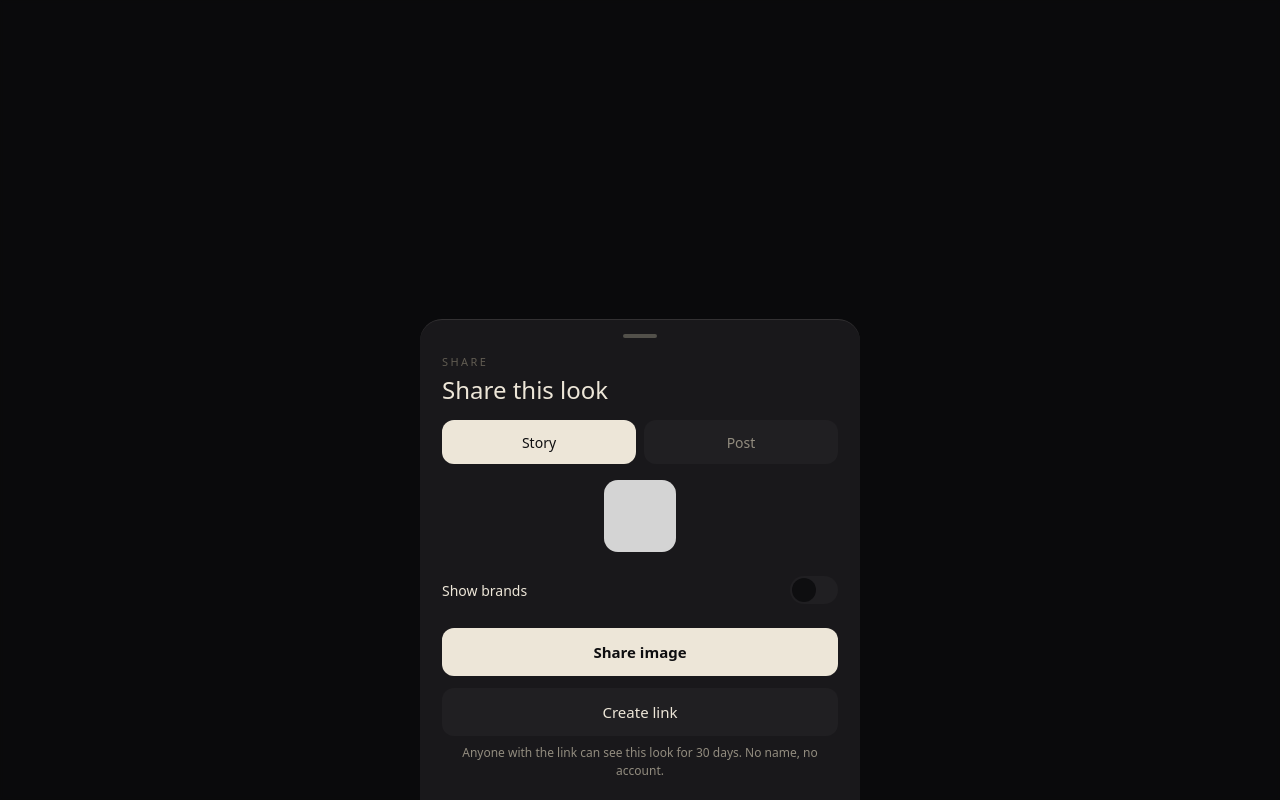
Test: Create link starts the clipboard write inside the tap and fills it with the new link (iOS activation)
Expected: the button "Share image" is enabled, [442,628,838,676]
Click the button "Create link": point(640, 712) [442,688,838,736]
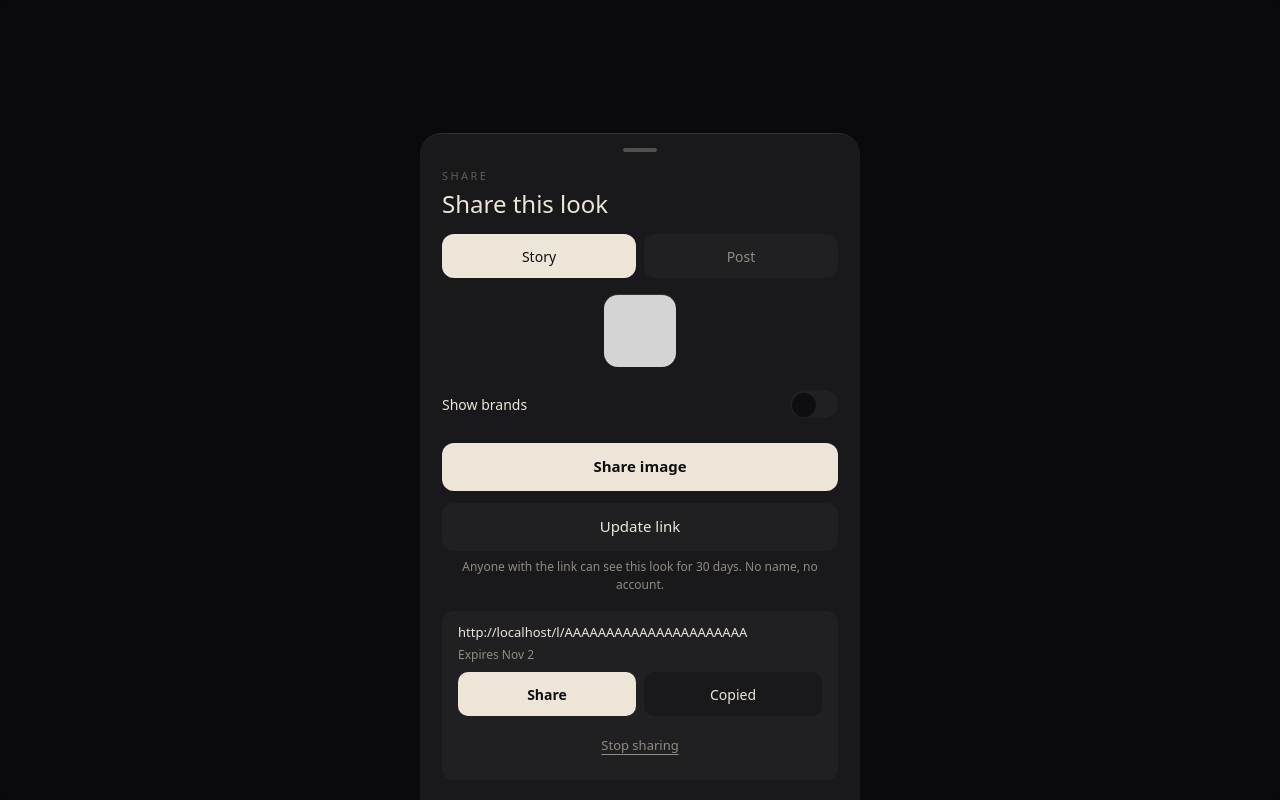
Now the button "Copied" is shown, box [644,672,822,716]
